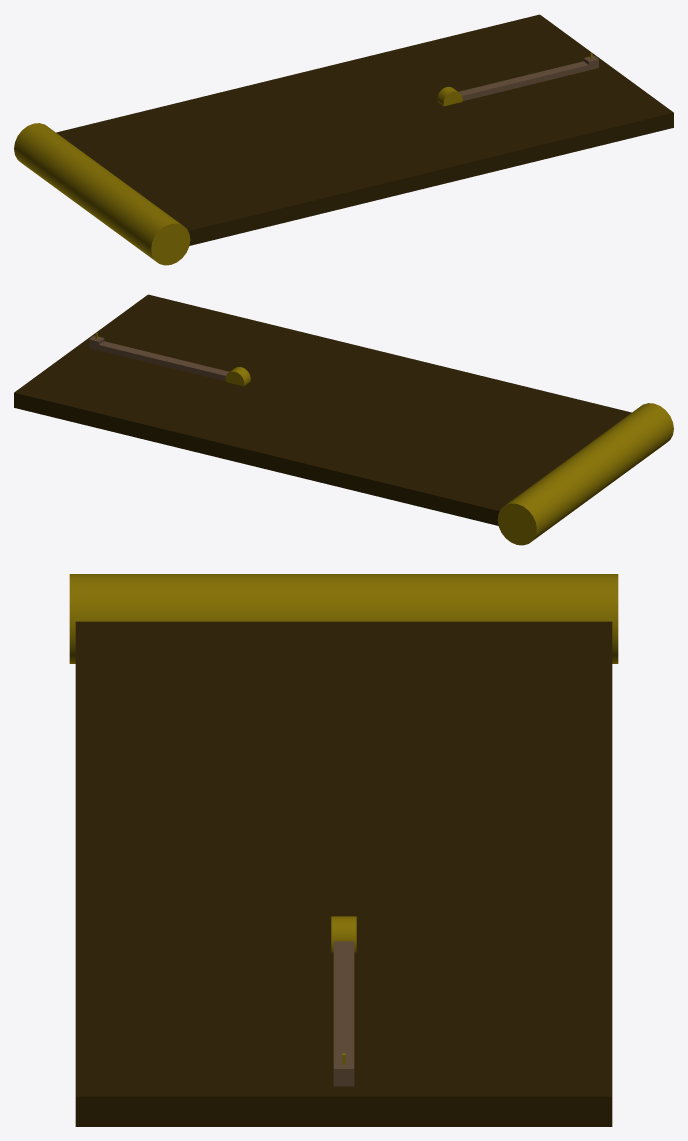
The model's file is BarDoor.fbx.
The picture shows the model from 3 angles, top to bottom: view 1: azimuth 30°, elevation 25°; view 2: azimuth 150°, elevation 25°; view 3: azimuth 270°, elevation 25°; orthographic projection. The views are drawn at different scales.
Visible parts, largest first — view 1: BarDoor; view 2: BarDoor; view 3: BarDoor.
Part boxes in pixels (x1=…): BarDoor: x1=14, y1=14, x2=673, y2=265; BarDoor: x1=14, y1=294, x2=673, y2=545; BarDoor: x1=69, y1=574, x2=618, y2=1126.
Size of the model in its own units: 10.46 by 0.7953 by 4.74.
